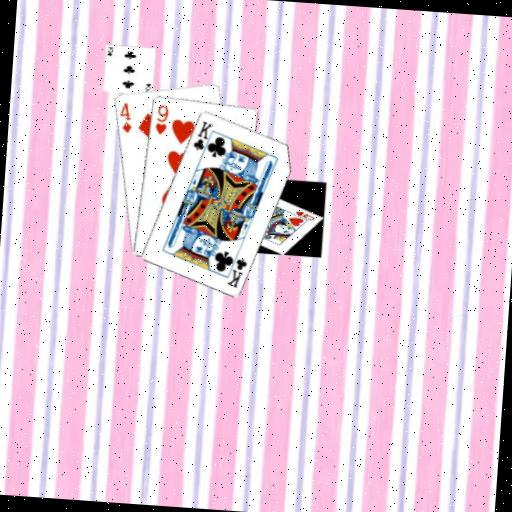4D: (116, 99, 135, 134)
9H: (151, 101, 170, 137)
KC: (222, 248, 250, 290), (189, 117, 216, 158)
